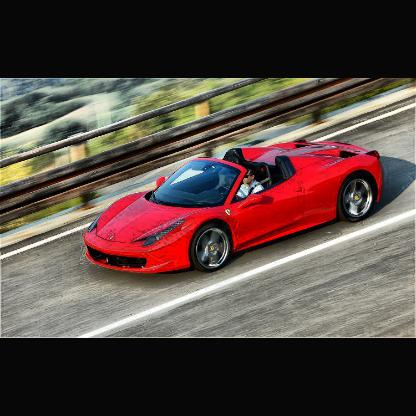Ferrari 458 Italia Convertible 2012: (84, 141, 382, 271)
